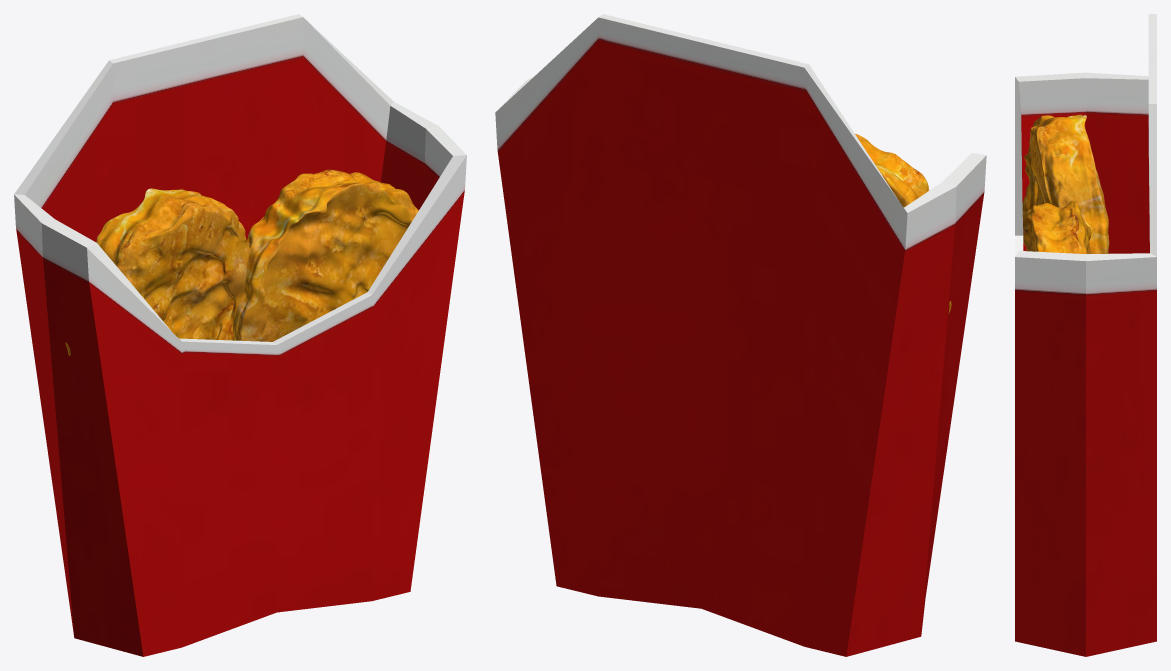
Rendered from nuggets_extra.glb.
3 renders of one model, left to right at view 1: azimuth 30°, elevation 25°; view 2: azimuth 150°, elevation 25°; view 3: azimuth 270°, elevation 25°, orthographic. The views are drawn at different scales.
Visible parts, largest first — view 1: nuggets_extra; view 2: nuggets_extra; view 3: nuggets_extra.
Boxes of the visible parts, x1,y1,x2,y2 form: nuggets_extra: (14,14,466,656); nuggets_extra: (495,14,986,656); nuggets_extra: (1015,14,1156,656).
Size of the model in its own units: 84.48 by 108 by 26.86.
3 materials, 3 textured.
